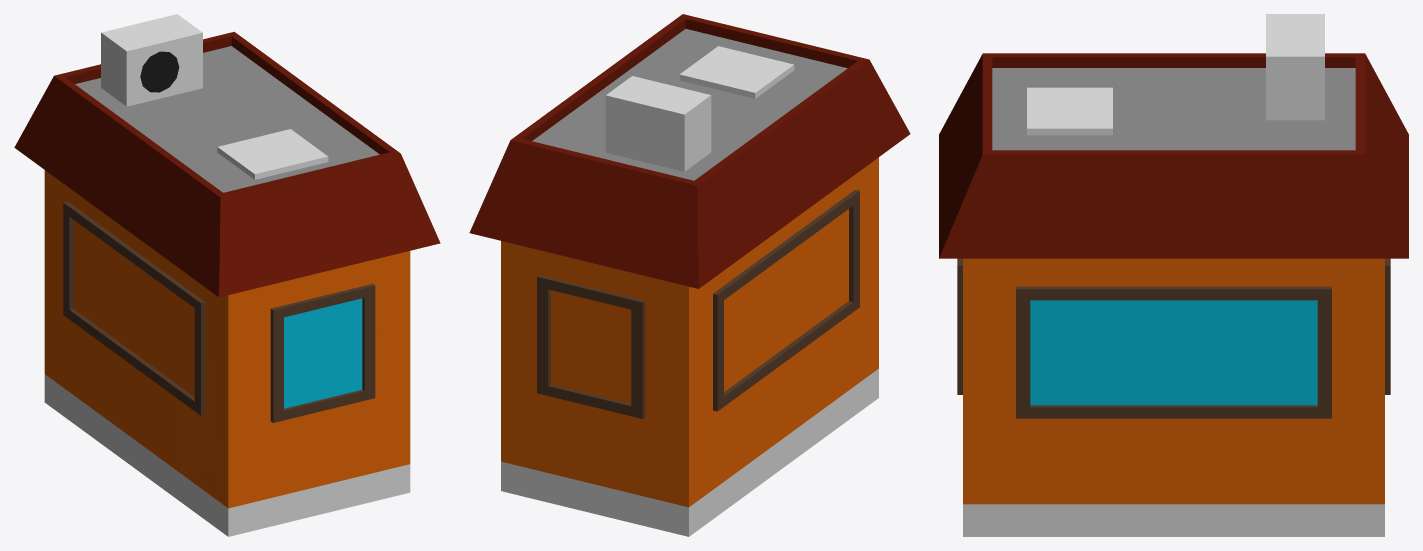
File: building_1.fbx
3 views of the same model, side by side, from view 1: azimuth 30°, elevation 25°; view 2: azimuth 150°, elevation 25°; view 3: azimuth 270°, elevation 25° (orthographic). The views are drawn at different scales.
Visible parts, largest first — view 1: Exterior[Roof], Exterior[Stage], Interior_cell.023, Base, Interior_cell.015, Window_3, Interior_cell, Interior[X]_cell.037, Interior[X]_cell.039, Interior[X]_cell.008, Window_2, Interior[X]_cell.030 (+15 smaller); view 2: Exterior[Stage], Exterior[Roof], Interior_cell.023, Base, Window_3, Window_4, Interior_cell, Interior[X]_cell.012, Interior[X]_cell.039, Interior[X]_cell.040, Interior_cell.015, Interior_cell.011 (+10 smaller); view 3: Exterior[Roof], Exterior[Stage], Interior[X]_cell.027, Interior[X]_cell.029, Base, Interior[X]_cell.014, Interior_cell.026, Interior_cell.013, Interior[X]_cell.011, Interior_cell.018, Interior_cell.011, Interior[X]_cell.013 (+19 smaller).
Boxes of the visible parts, x1,y1,x2,y2 form: Exterior[Roof]: [14, 14, 440, 297]; Exterior[Stage]: [44, 170, 410, 517]; Interior_cell.023: [37, 89, 149, 237]; Base: [44, 384, 410, 536]; Interior_cell.015: [147, 230, 334, 296]; Window_3: [63, 201, 205, 415]; Interior_cell: [138, 139, 322, 240]; Interior[X]_cell.037: [217, 375, 318, 502]; Interior[X]_cell.039: [66, 333, 138, 442]; Interior[X]_cell.008: [125, 366, 181, 473]; Window_2: [270, 285, 375, 420]; Interior[X]_cell.030: [206, 338, 251, 482]; Exterior[Stage]: [501, 157, 878, 516]; Exterior[Roof]: [469, 14, 910, 288]; Interior_cell.023: [710, 116, 826, 271]; Base: [501, 378, 878, 536]; Window_3: [713, 189, 859, 411]; Window_4: [537, 275, 645, 418]; Interior_cell: [764, 35, 883, 194]; Interior[X]_cell.012: [501, 386, 598, 485]; Interior[X]_cell.039: [712, 392, 781, 490]; Interior[X]_cell.040: [501, 277, 536, 382]; Interior_cell.015: [833, 97, 909, 190]; Interior_cell.011: [703, 118, 770, 170]; Exterior[Roof]: [939, 14, 1408, 258]; Exterior[Stage]: [957, 258, 1384, 514]; Interior[X]_cell.027: [1177, 414, 1380, 504]; Interior[X]_cell.029: [979, 341, 1104, 504]; Base: [963, 515, 1384, 536]; Interior[X]_cell.014: [1083, 418, 1222, 504]; Interior_cell.026: [1188, 153, 1365, 258]; Interior_cell.013: [1005, 230, 1196, 258]; Interior[X]_cell.011: [1220, 258, 1384, 323]; Interior_cell.018: [965, 137, 1188, 231]; Interior_cell.011: [1158, 68, 1265, 103]; Interior[X]_cell.013: [963, 258, 1133, 286].
Size of the model in its own units: 244 by 401 by 390.
